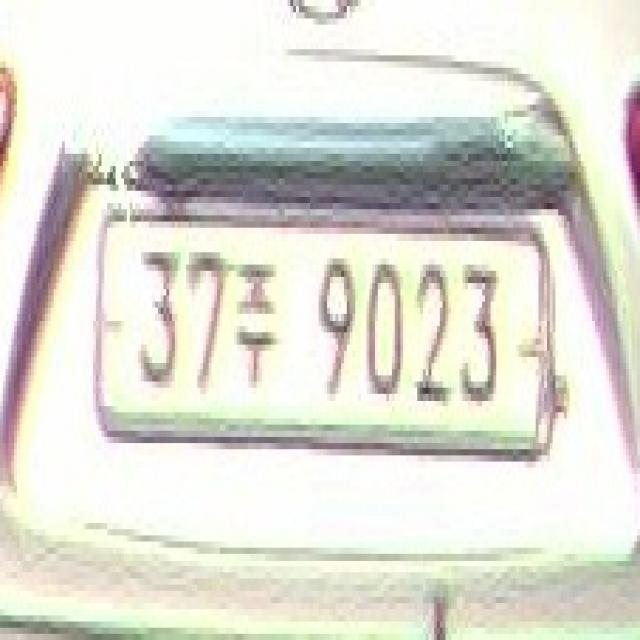0: (364, 252, 403, 412)
2: (412, 252, 451, 412)
3: (136, 240, 180, 394), (460, 258, 499, 412)
7: (186, 252, 223, 382)
9: (316, 252, 355, 394)
ju: (234, 252, 276, 400)
license_plate: (99, 209, 555, 480)
